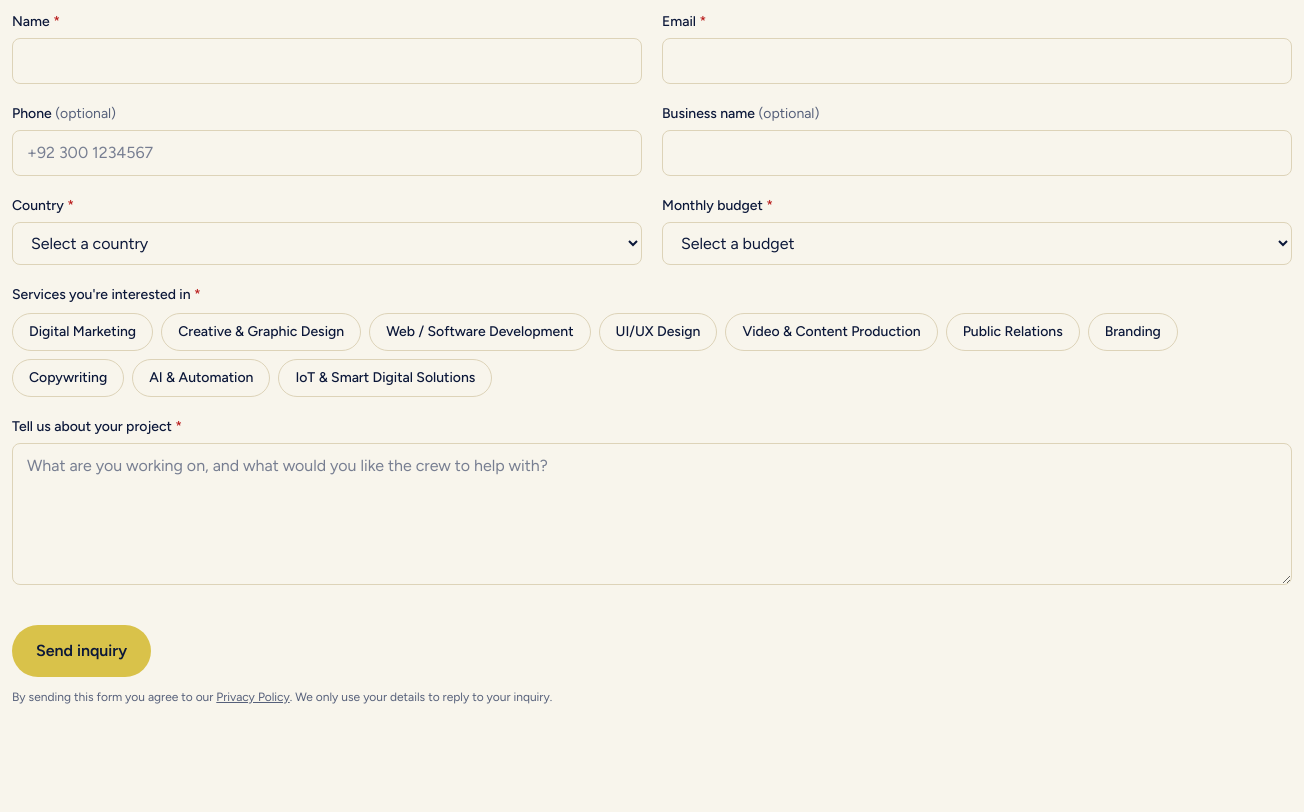
Test: InquiryForm › shows the rate-limit message with contact alternatives
Type "Ayesha Khan" into the field labelled "Name *". click: {"x": 327, "y": 61}
box: top-left (12, 38), bottom-right (642, 84)
Type "ayesha@example.com" into the field labelled "Email *". click: {"x": 977, "y": 61}
box: top-left (662, 38), bottom-right (1292, 84)
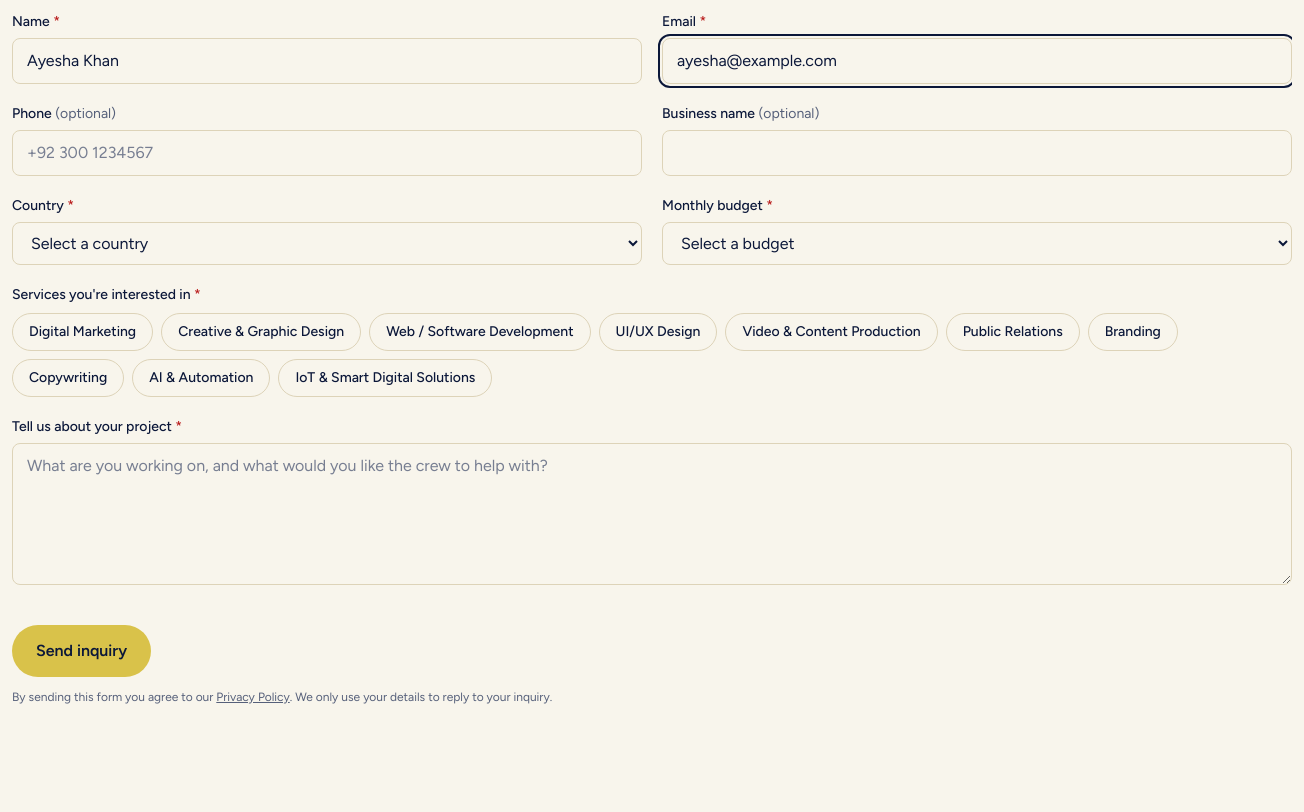
Select "Pakistan" in the dropdown labelled "Country *". click: {"x": 327, "y": 244}
box: top-left (12, 222), bottom-right (642, 265)
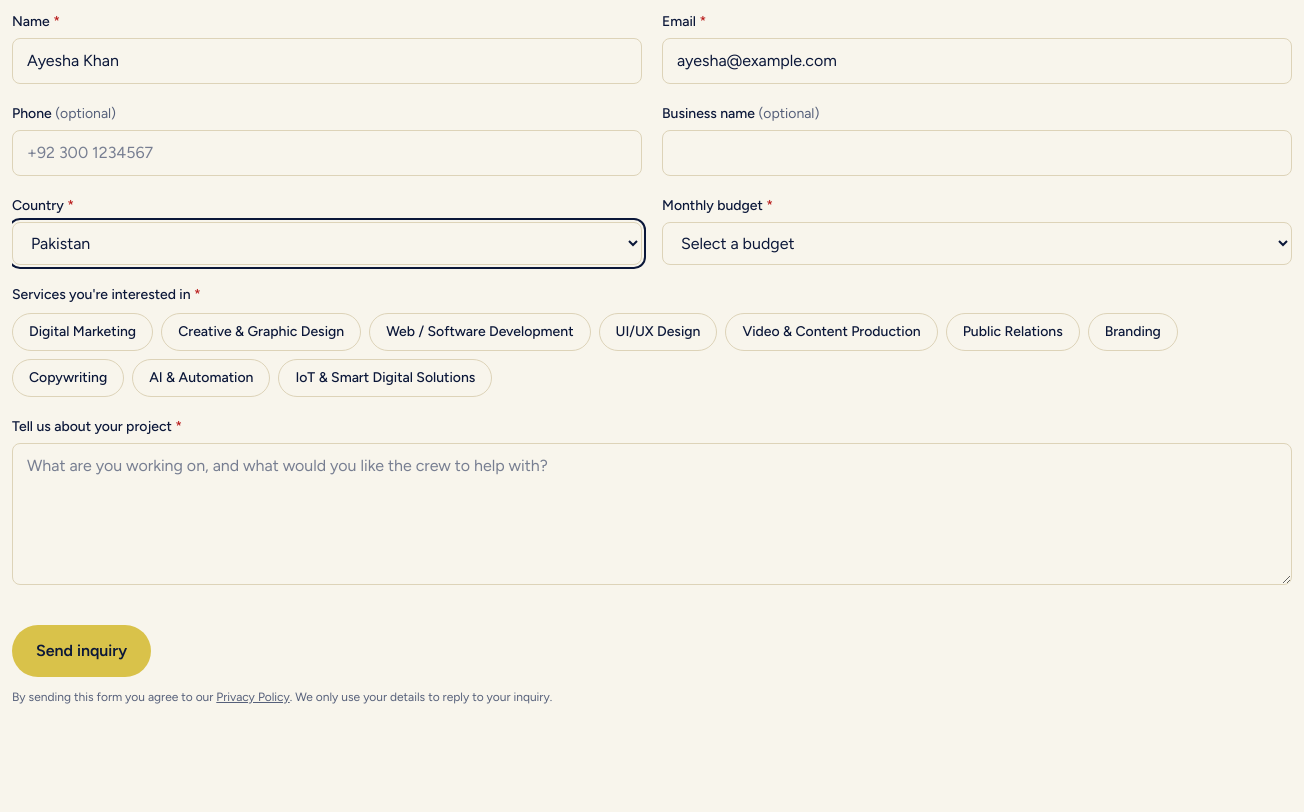
Select "Not sure yet" in the dropdown labelled "Monthly budget *". click: {"x": 977, "y": 244}
box: top-left (662, 222), bottom-right (1292, 265)
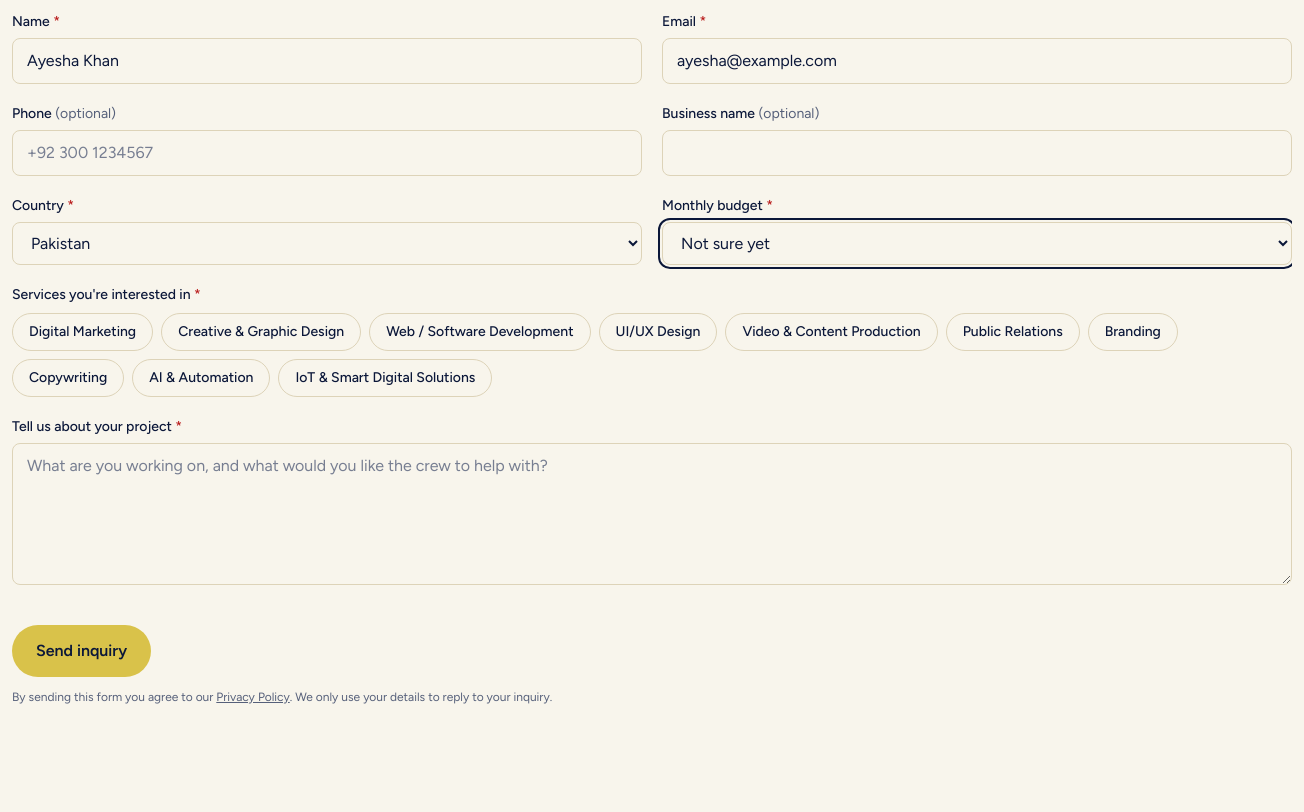
Click the checkbox labelled "Branding". click: {"x": 1133, "y": 332}
box: top-left (1088, 313), bottom-right (1178, 351)
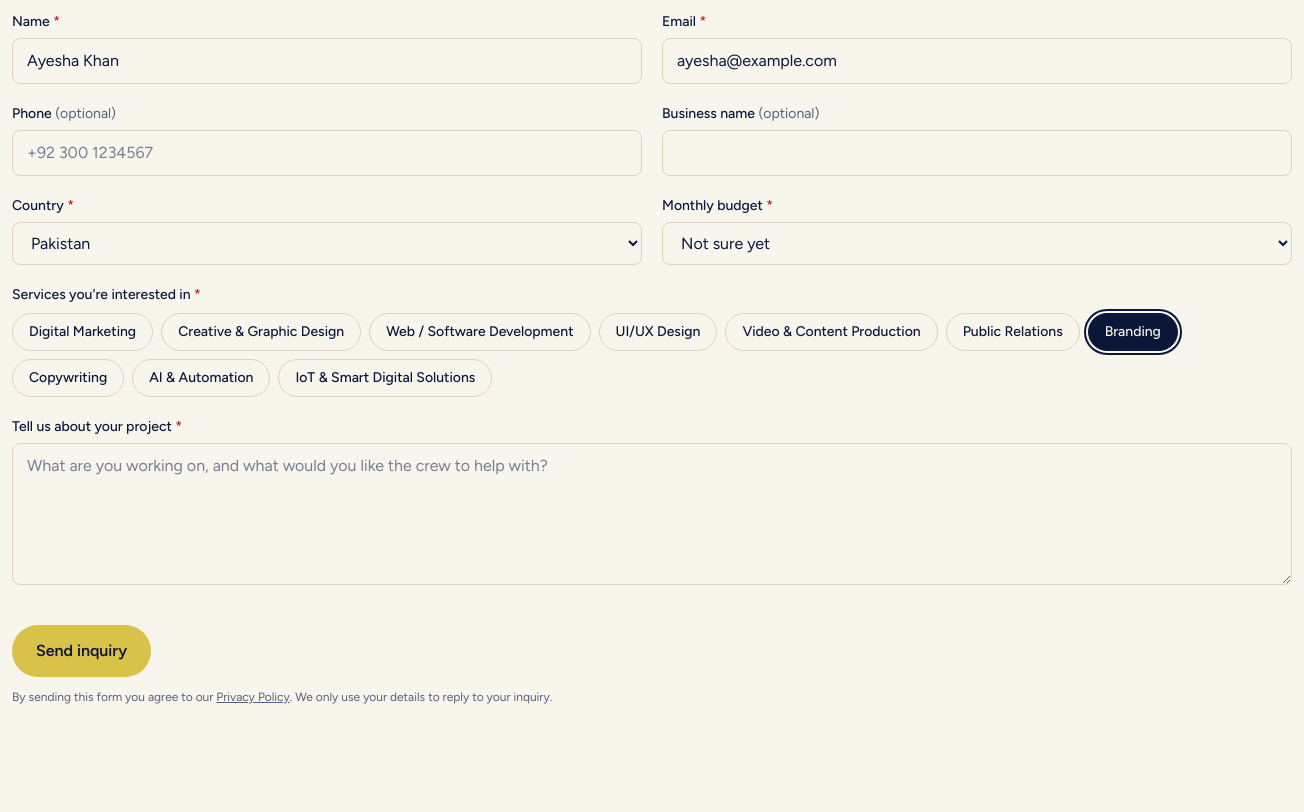
Type "We need more patients from Google." into the text box labelled "Tell us about your project *". click: {"x": 652, "y": 514}
box: top-left (12, 443), bottom-right (1292, 585)
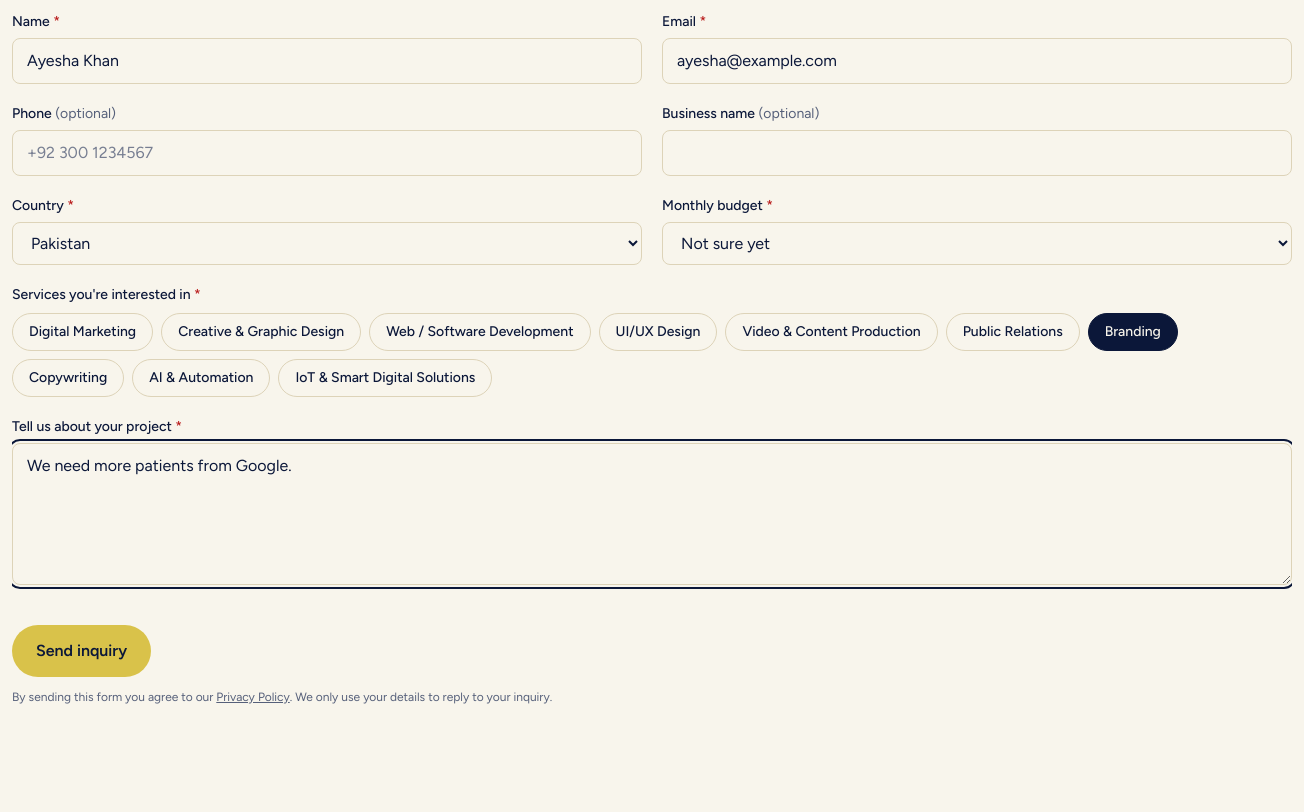
Click the button "Send inquiry". click: {"x": 82, "y": 651}
box: top-left (12, 625), bottom-right (151, 677)
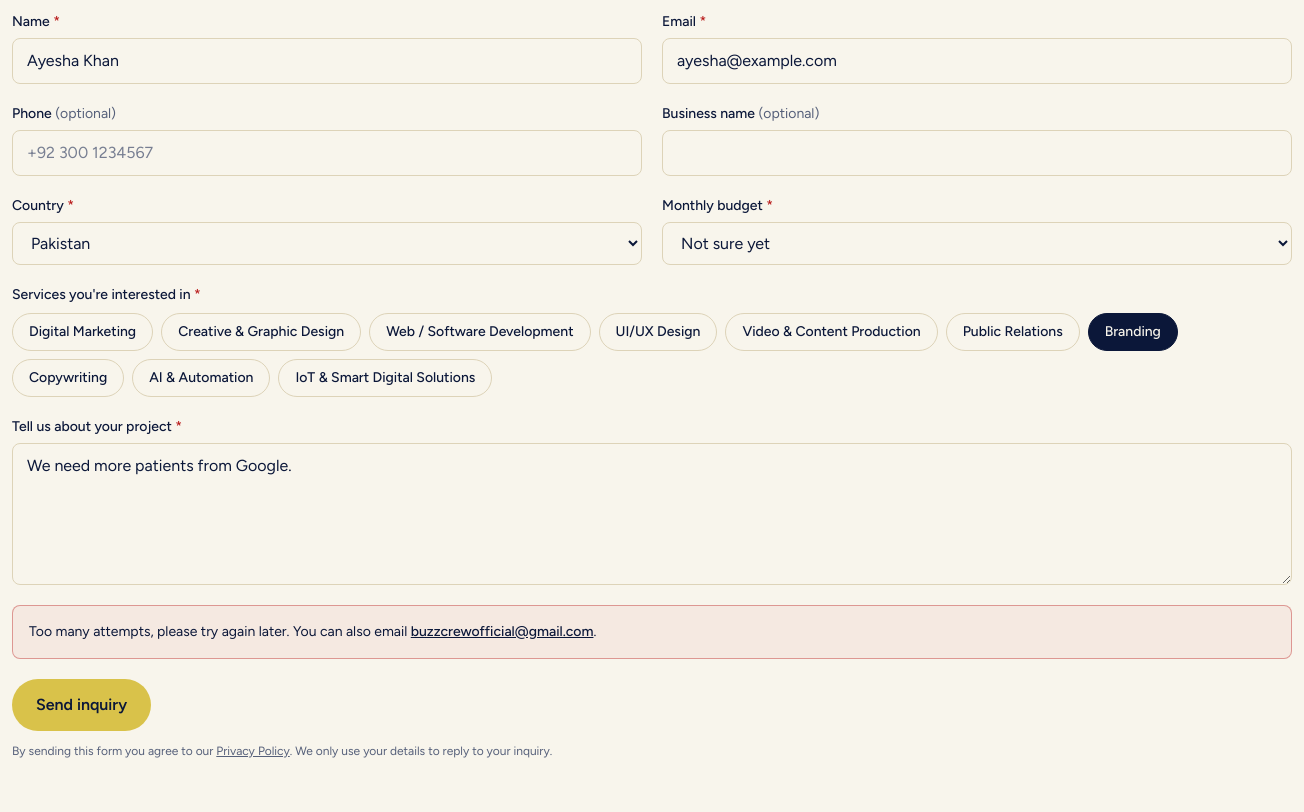
Now the message shows "Too many attempts, please try again later.", box top-left (29, 623), bottom-right (290, 640)
Now the message shows "buzzcrewofficial@gmail.com", box top-left (411, 623), bottom-right (594, 640)
